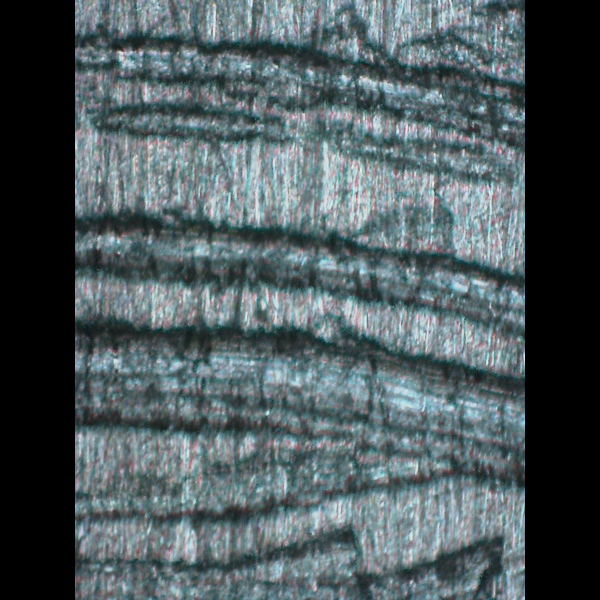d: (75, 0, 523, 190), (74, 305, 523, 493), (75, 199, 524, 338)
